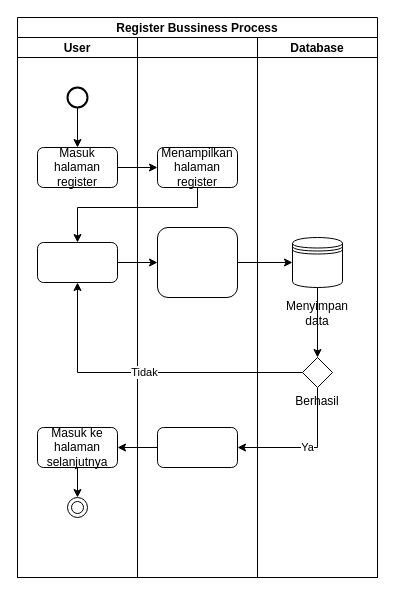
The diagram is 395 pixels wide and 595 high, and some of its shapes have lost their labels. The shapes that lost their labels are listed below. From the top down, each one's box as (x1, y1, x2, y2) in pixels, then its label:
(36, 242, 118, 282): Menginput data
(156, 226, 238, 298): Memasukkan data ke bagian database
(136, 36, 258, 578): Sistem
(156, 426, 238, 468): Menampilkan halaman selanjutnya
